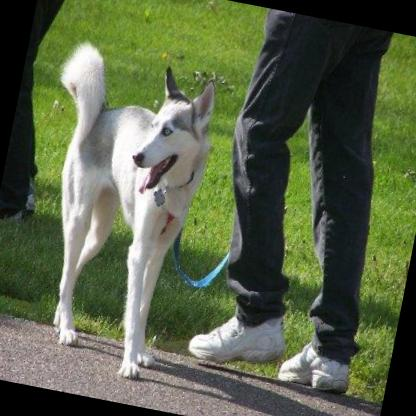Siberian_husky: (5, 32, 225, 386)
